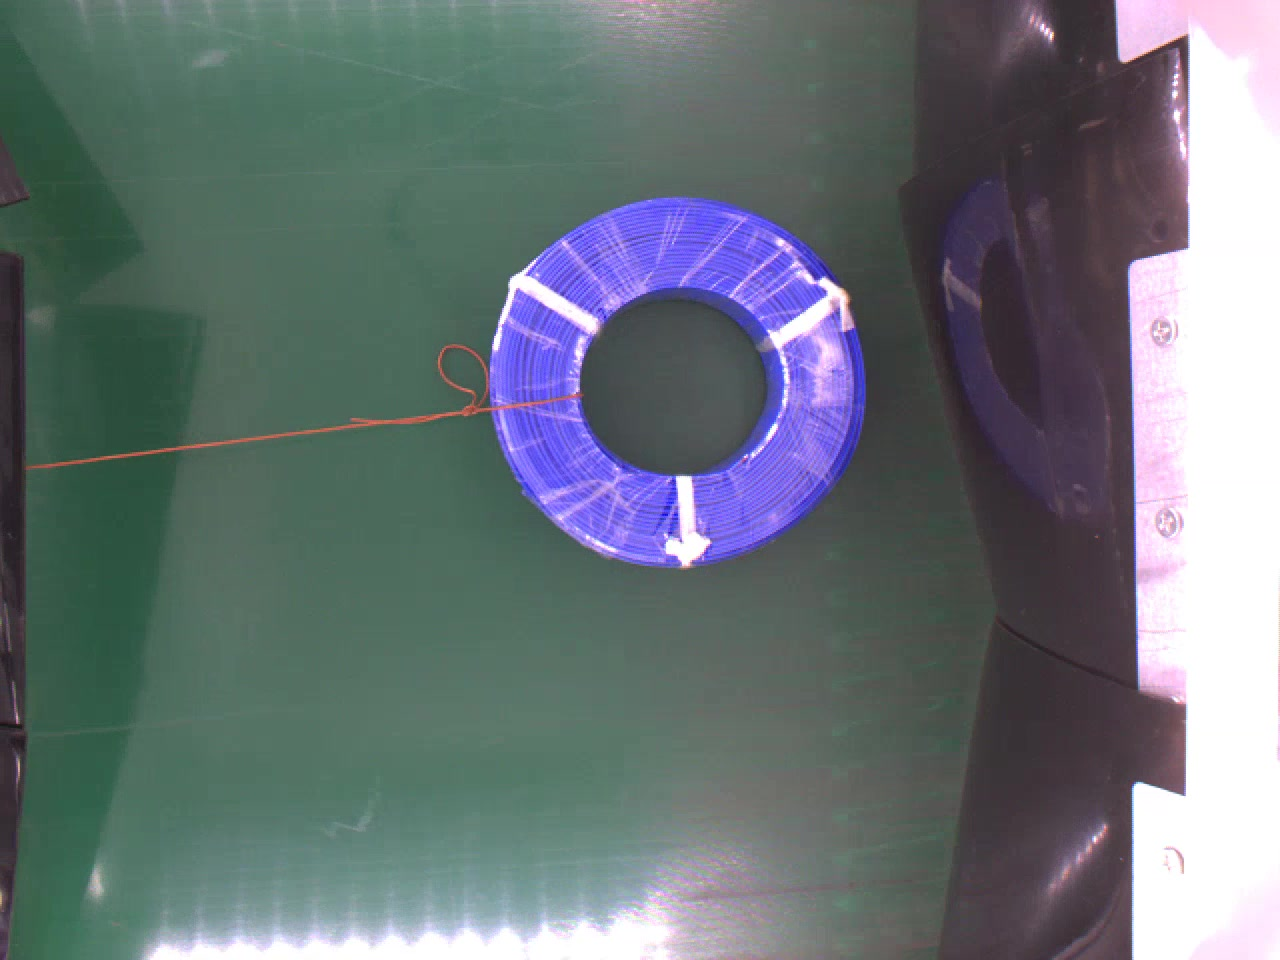blue: (483, 195, 863, 567)
